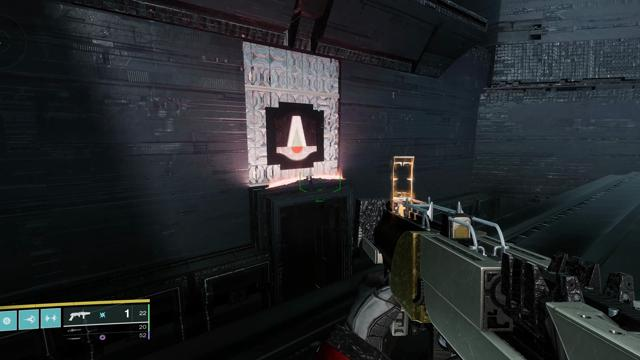enter: (275, 112, 317, 160)
